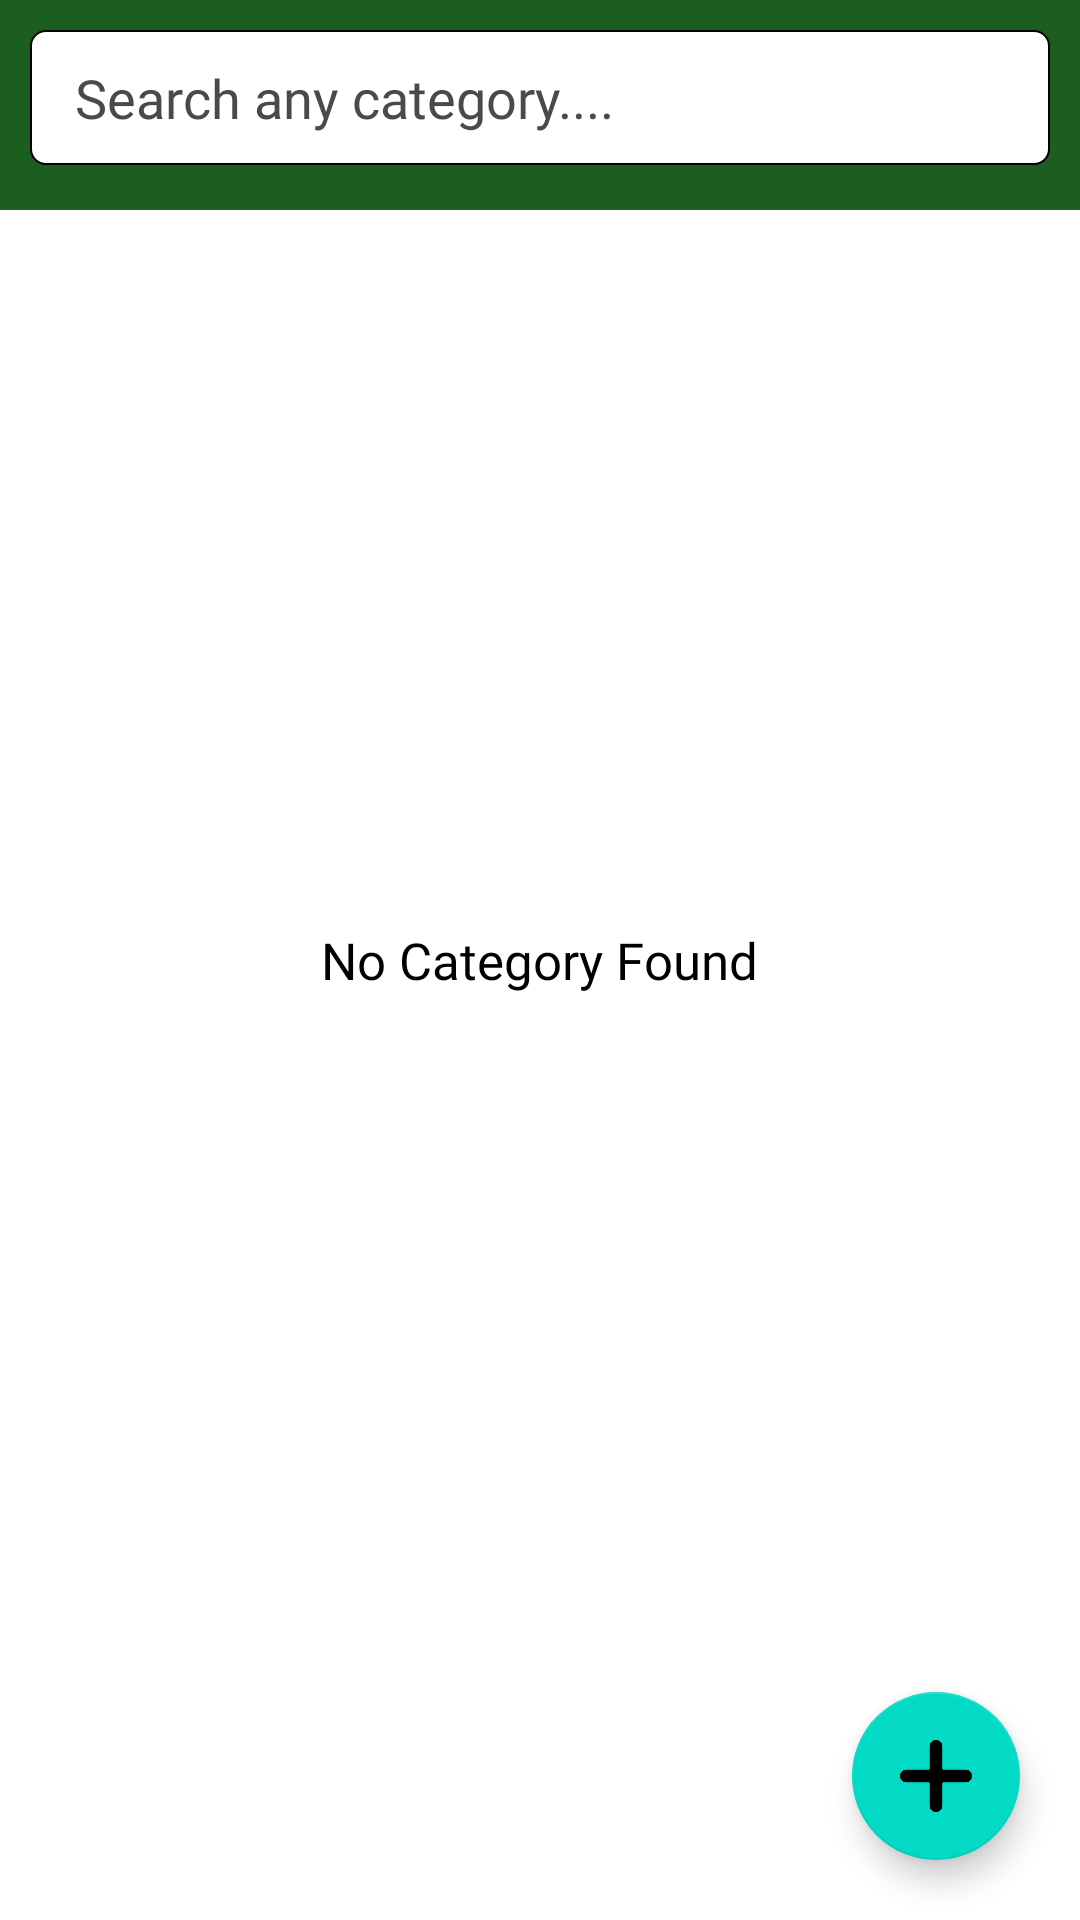

Where icons sit on this 1080px x 1920px app screen, as (x1=x1, y1=y1, x2=x2, y2=y2):
addicon: (x1=852, y1=1692, x2=1020, y2=1860)
